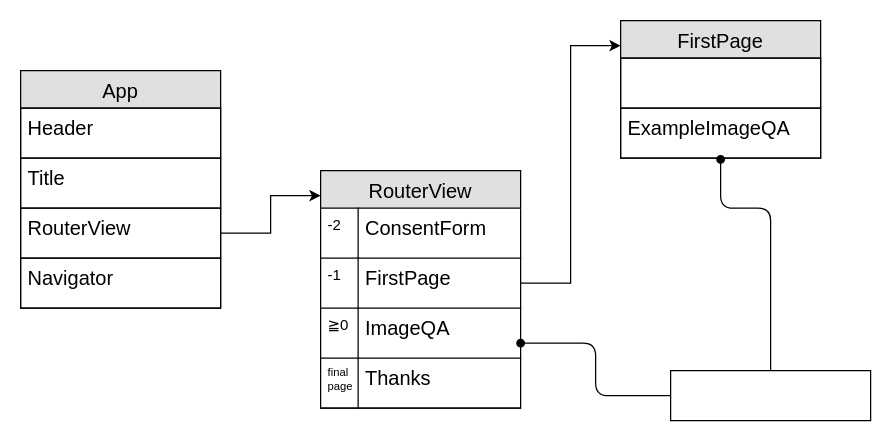
The diagram is 891 pixels wide and 441 high, and some of its shapes have lost their labels. Here are the shapes that lost their labels. From the top down, the centre of each, then its label:
point (720, 82): Enquete, EnqueteEn
point (770, 395): Notes
